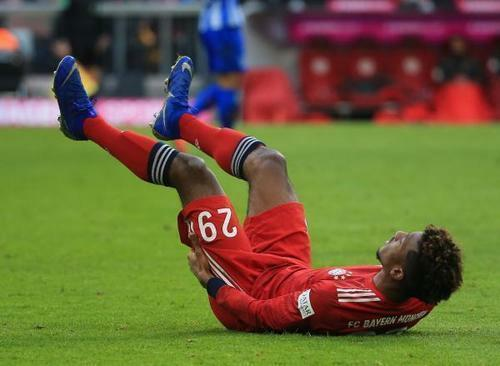Fall-Detected: (35, 42, 468, 329)
